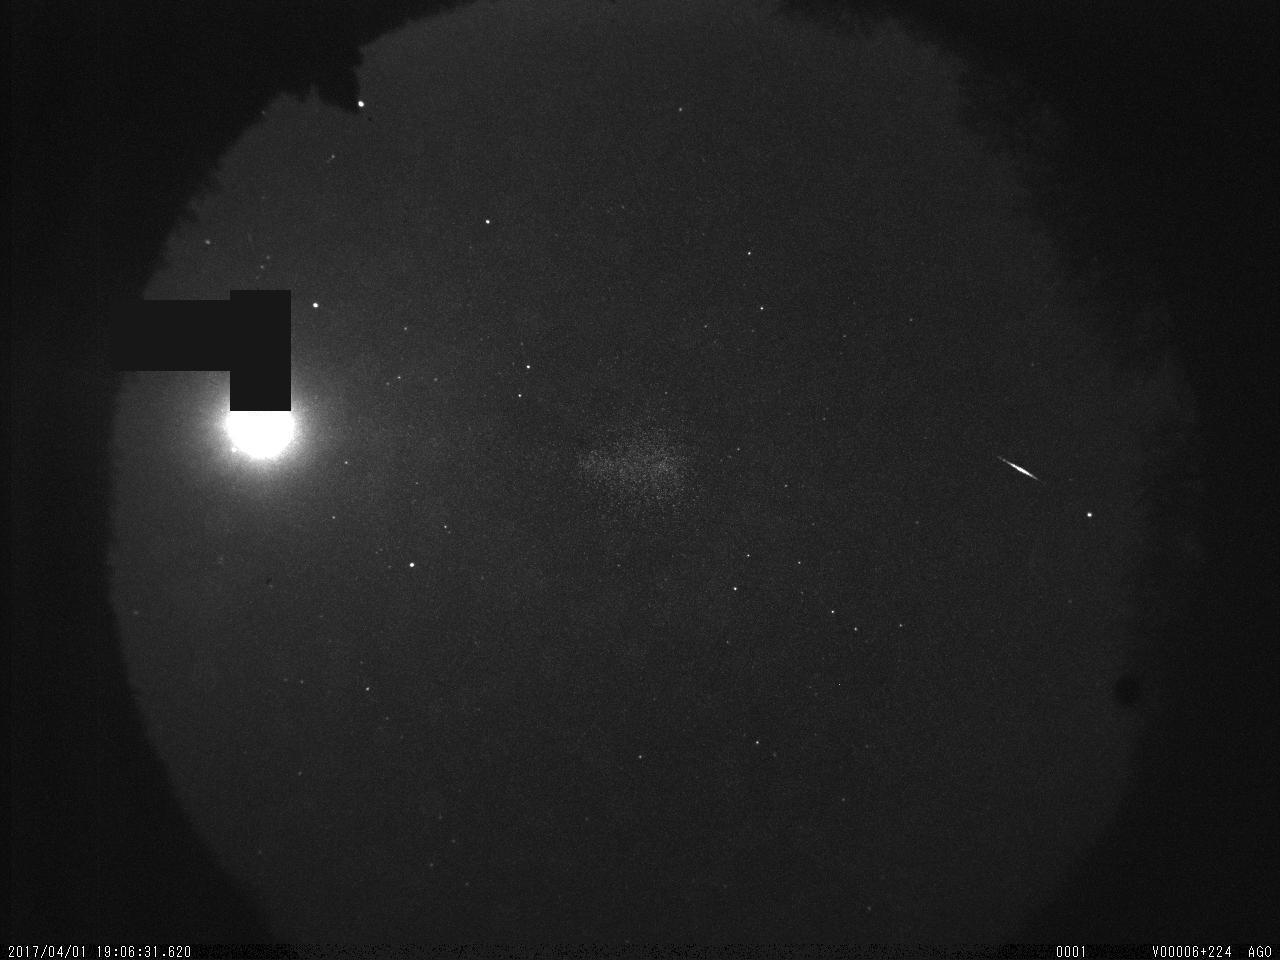meteor: (993, 445, 1053, 497)
